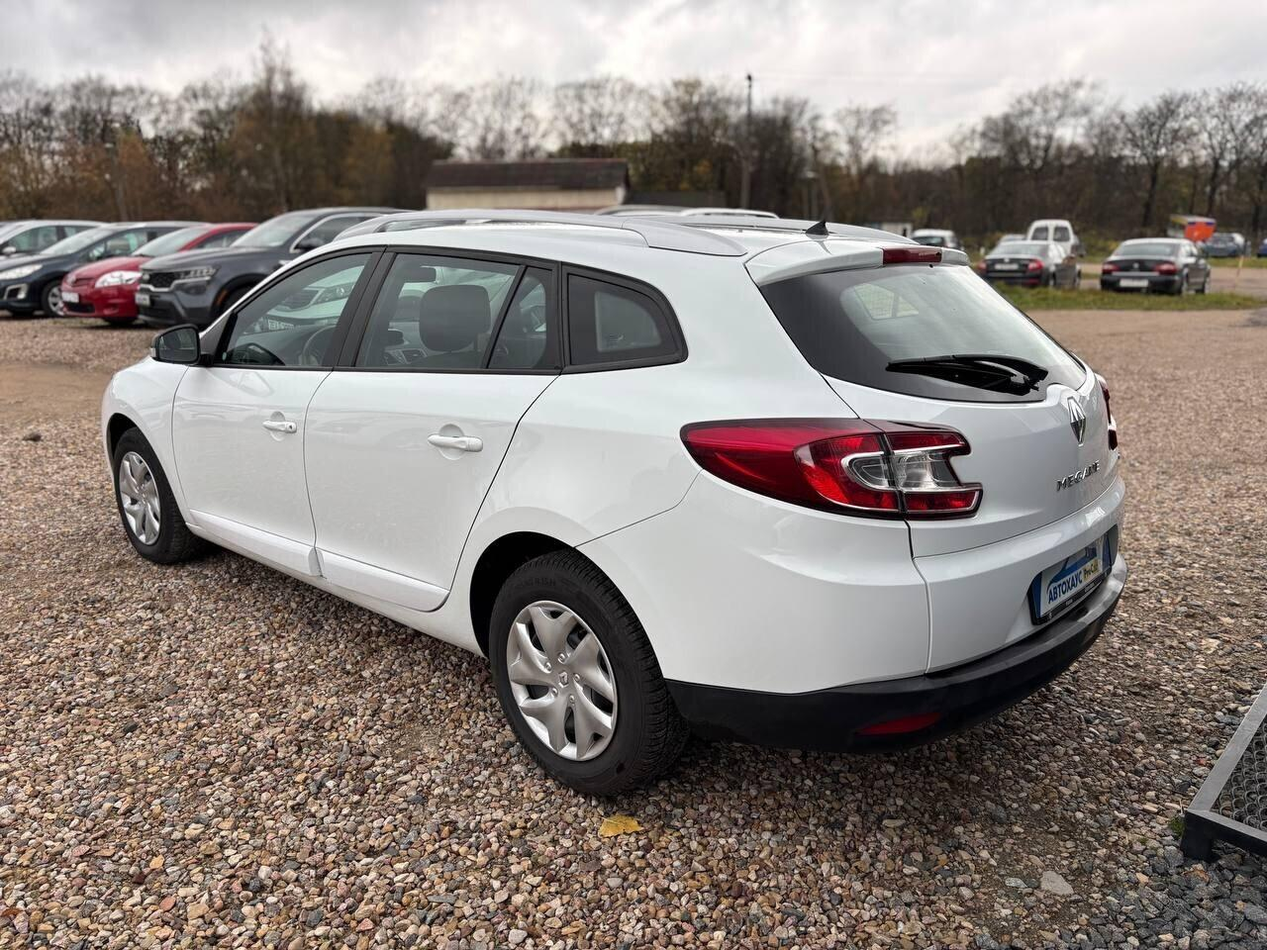Megane_2014-2016: (95, 219, 1137, 798)
